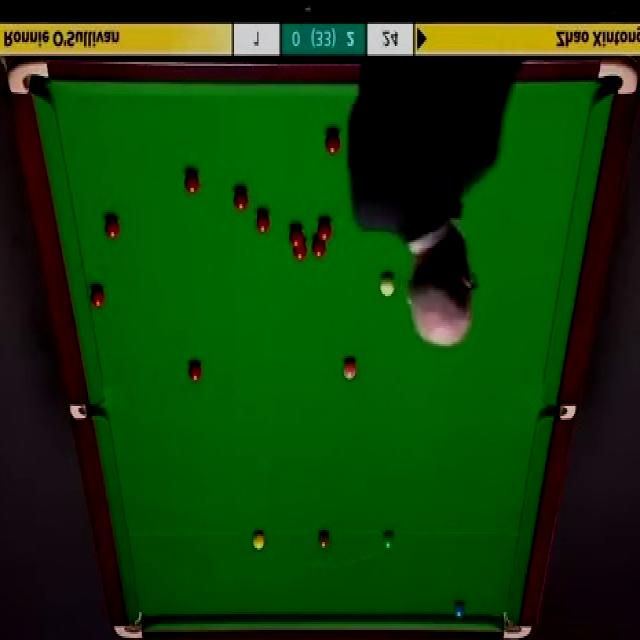blue-ball: (454, 598, 466, 620)
brown-ball: (317, 531, 330, 550)
green-ball: (381, 531, 394, 550)
pink-ball: (342, 357, 359, 381)
red-ball: (185, 168, 202, 196), (186, 355, 203, 383), (105, 216, 121, 242), (232, 185, 247, 211), (90, 282, 105, 307), (325, 132, 341, 155), (255, 212, 269, 236), (290, 225, 305, 246), (292, 241, 307, 262), (312, 237, 326, 259), (317, 222, 330, 243)
white-ball: (378, 273, 396, 296)
yellow-ball: (252, 531, 265, 550)
